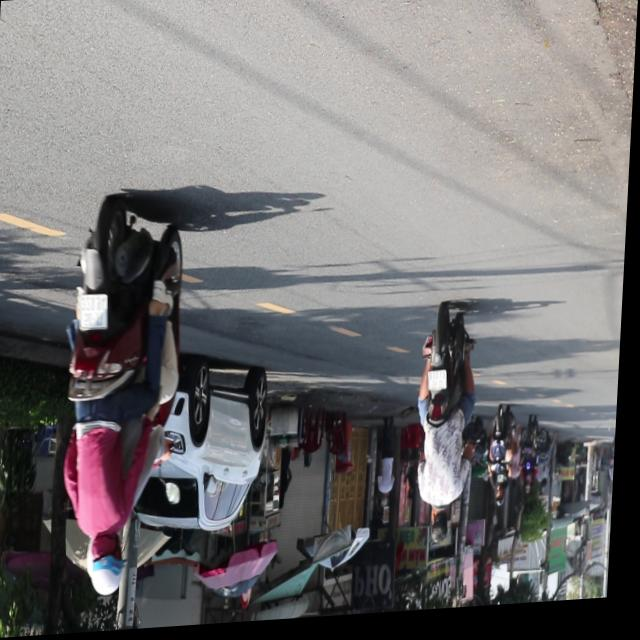helmet: (89, 530, 133, 600)
licenseplate: (54, 192, 195, 603), (412, 310, 485, 555)
motorcyclist: (432, 512, 455, 553)
nohelmet: (79, 297, 111, 333), (431, 377, 451, 398)
